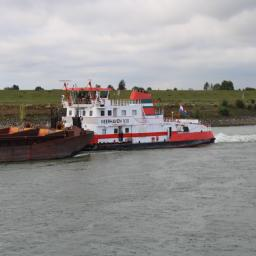tugboat: (50, 79, 218, 155)
